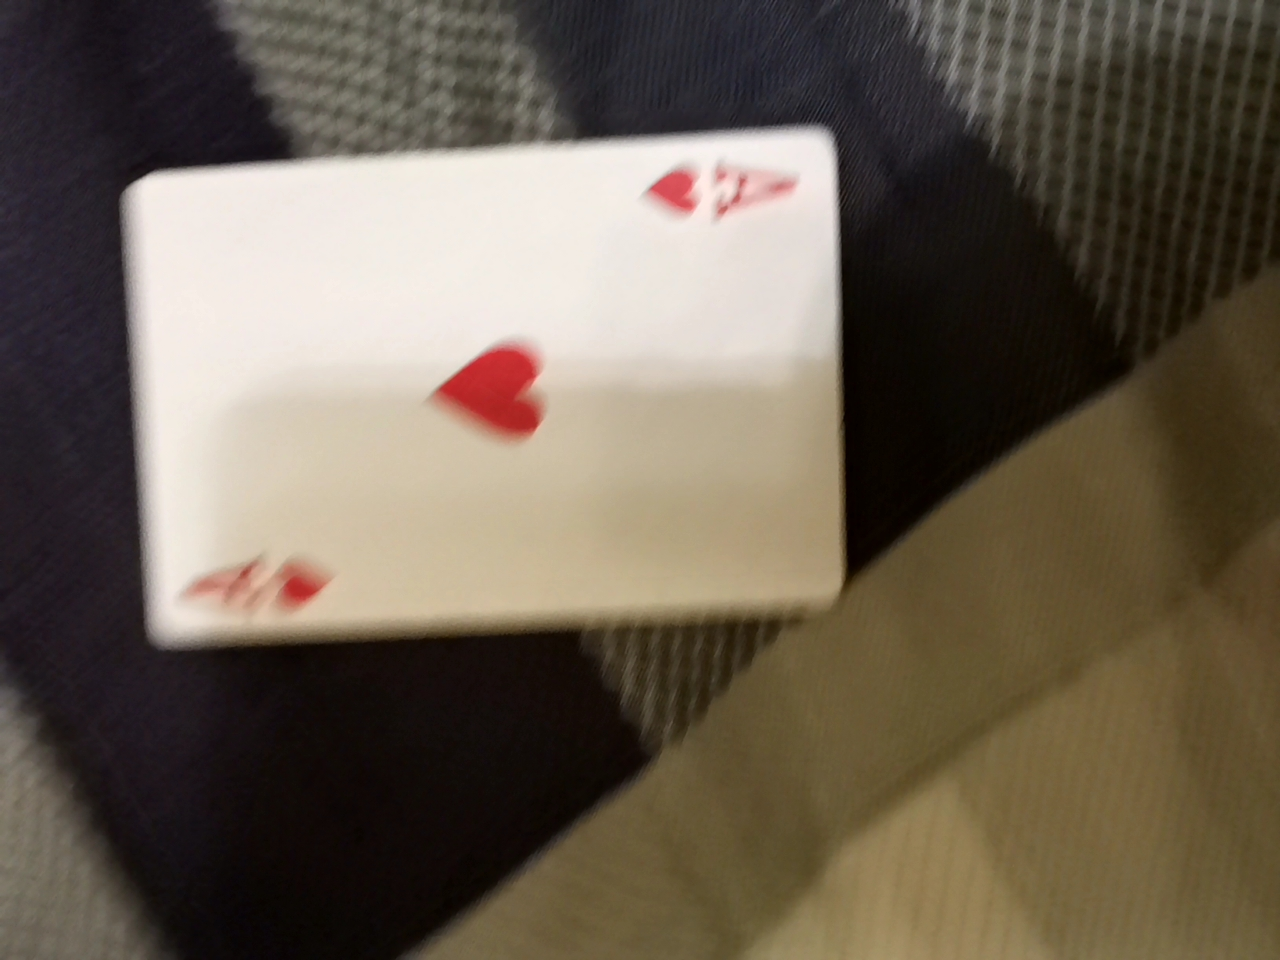hx a: (121, 118, 842, 630)
